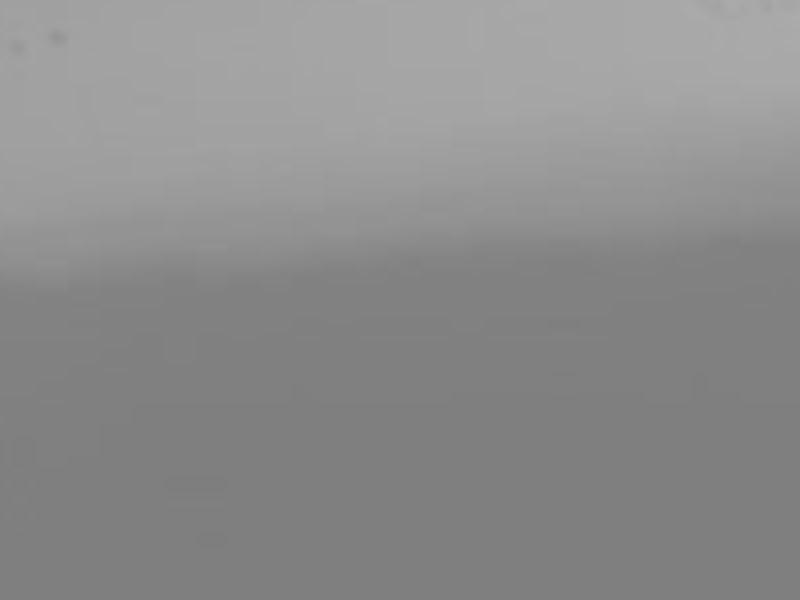defect: (47, 25, 70, 54), (9, 34, 30, 57)
